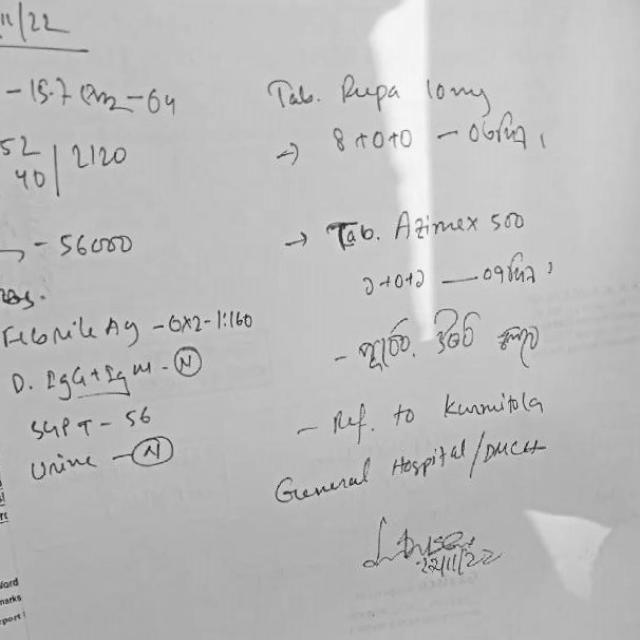medicine: (391, 202, 484, 245), (334, 65, 412, 114)
